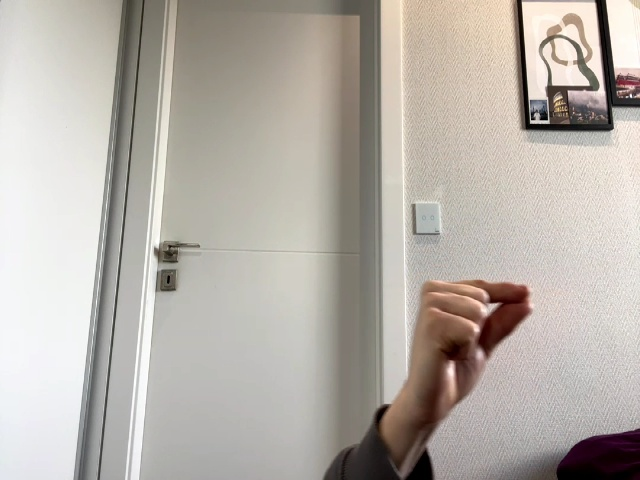P: (412, 281, 535, 391)
